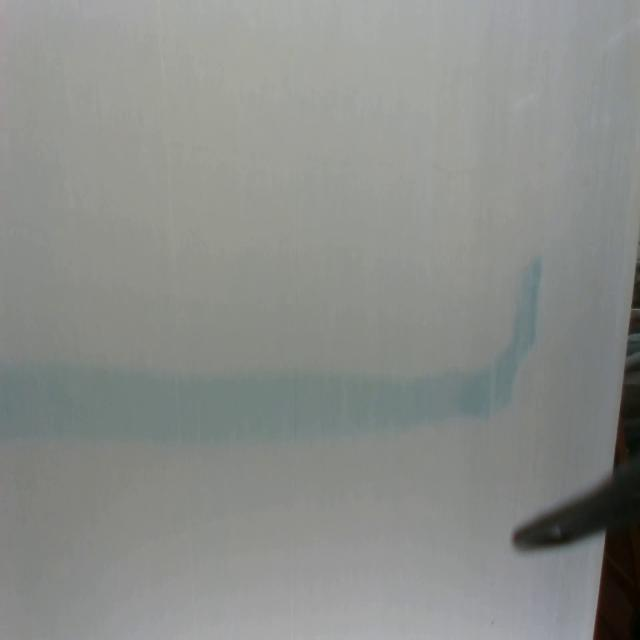color bleeding: (0, 251, 544, 444)
